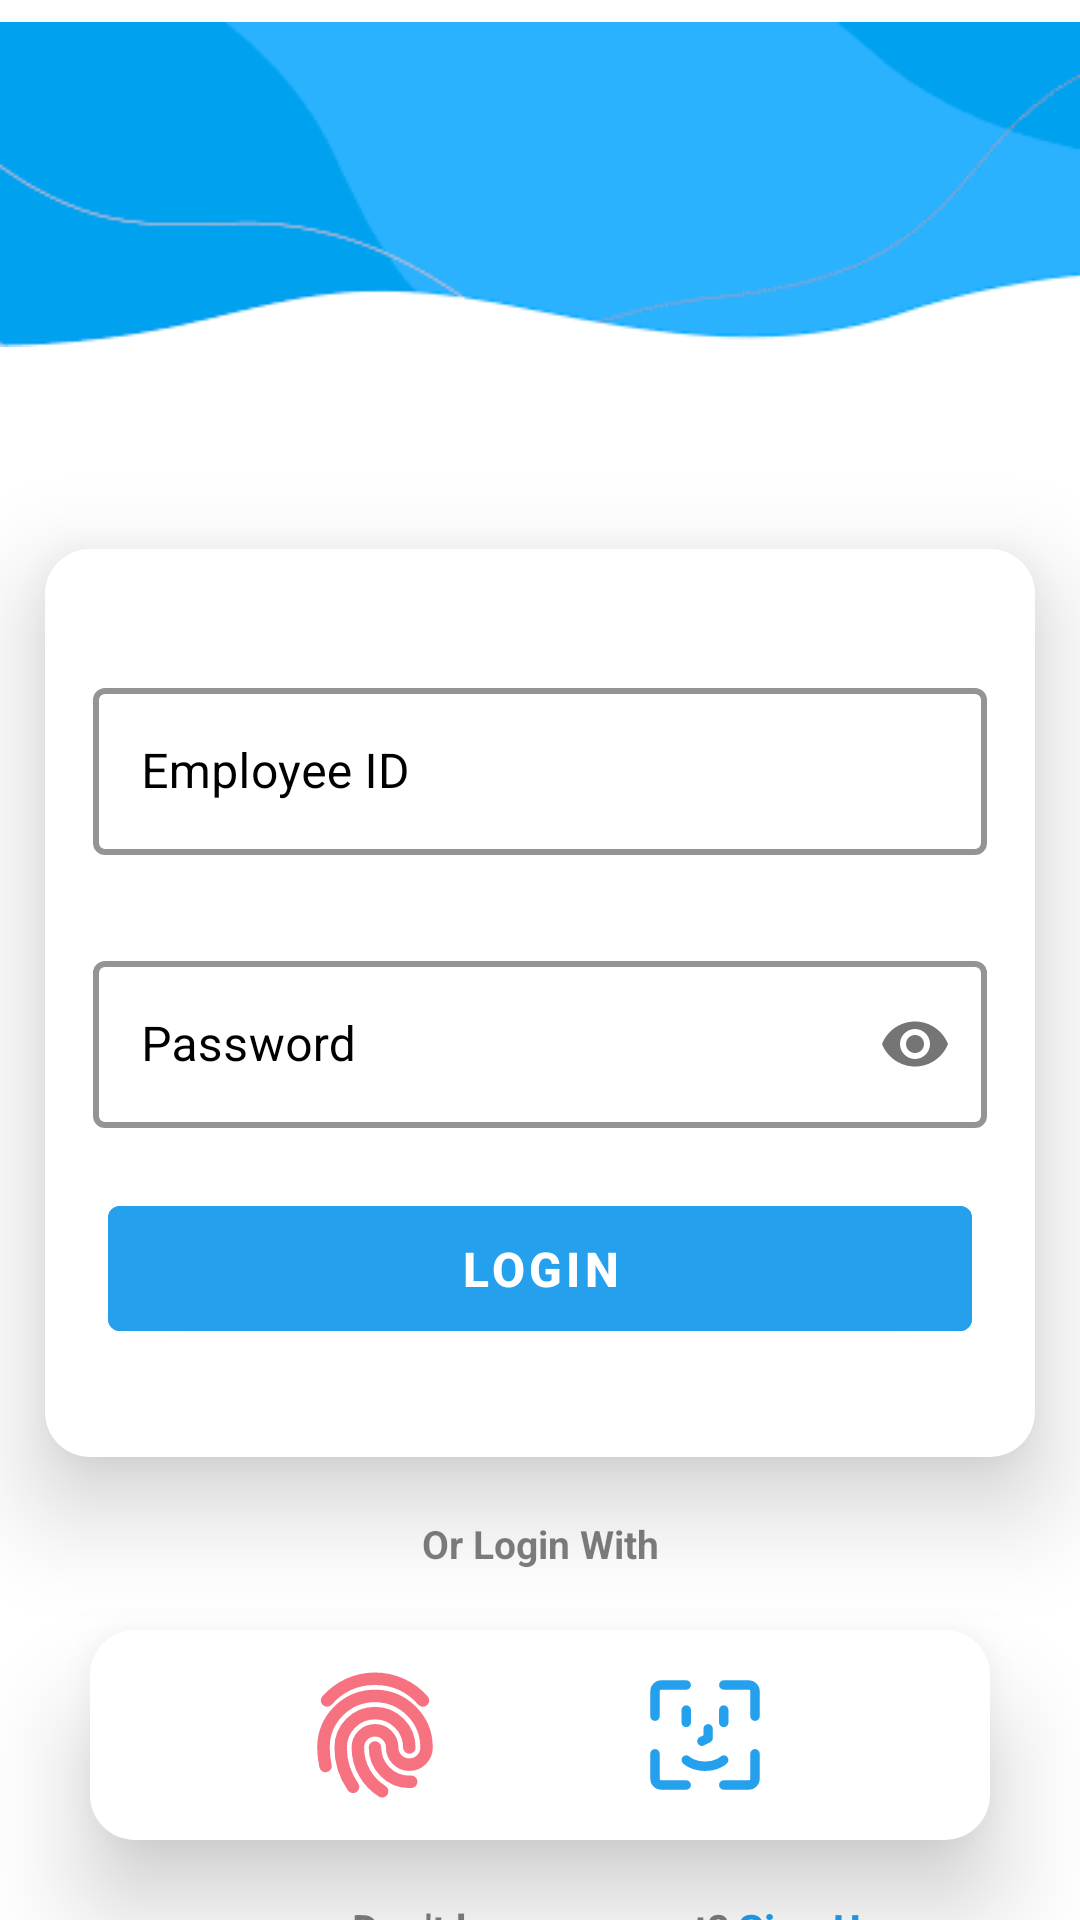

Named icons in this screenshot (1080w x 1920h) and their centers, point (x, y):
faceid: point (705, 1735)
fingerprint: point (375, 1735)
